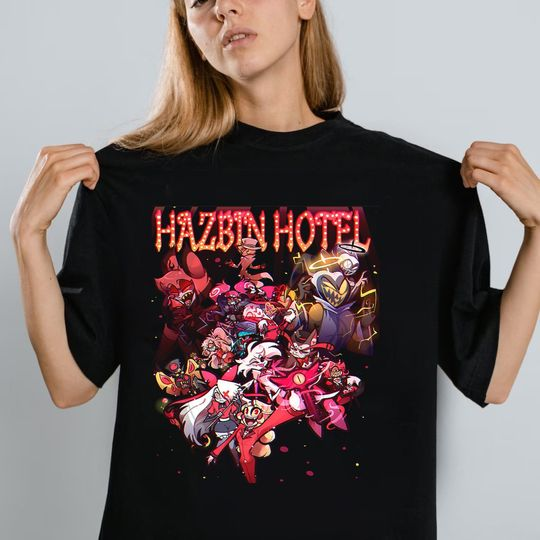design: (150, 202, 380, 488)
